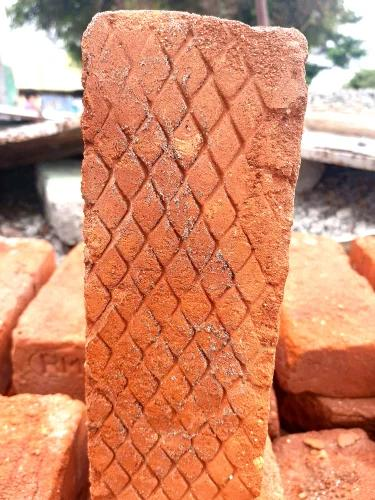brick: (86, 11, 306, 496), (286, 344, 372, 394), (13, 339, 87, 394)
